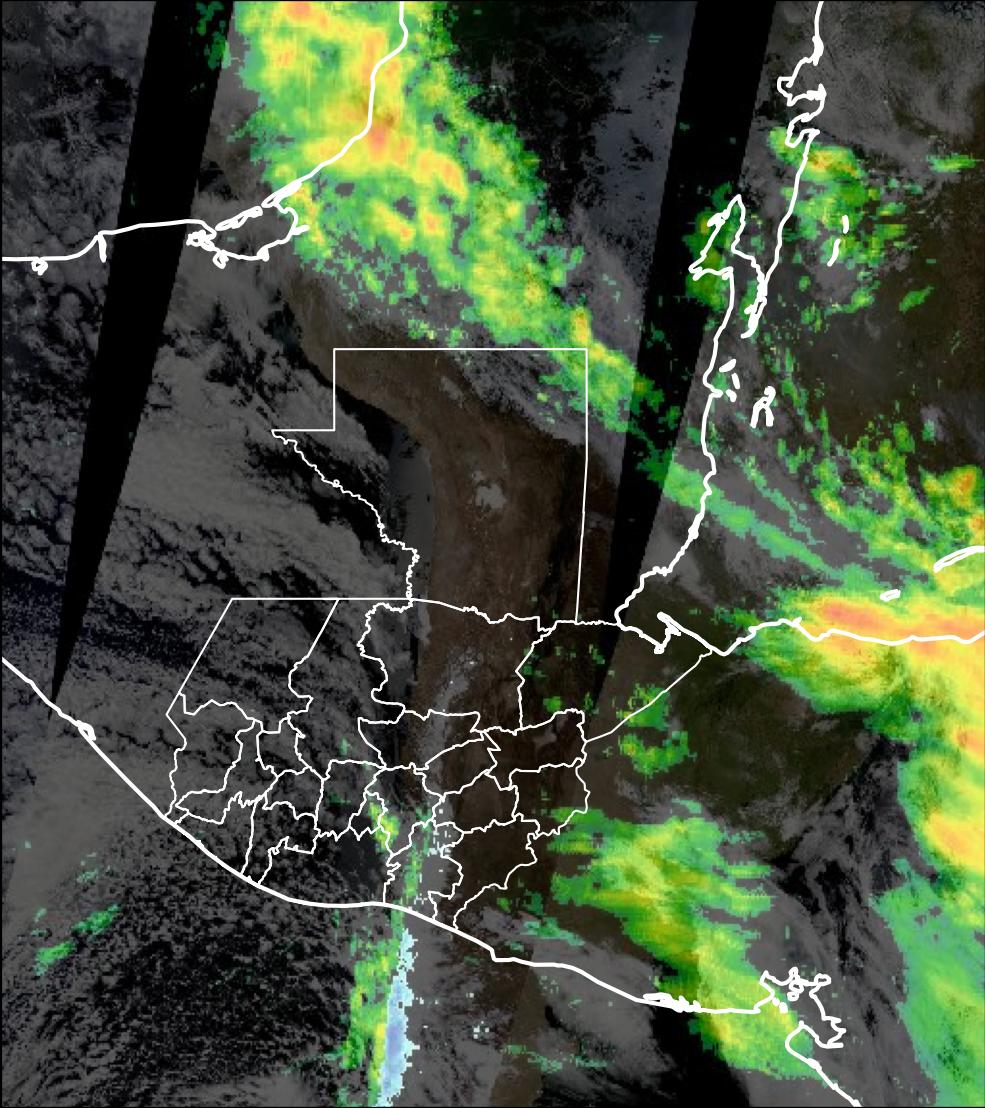precipitacion: (804, 576, 985, 702)
